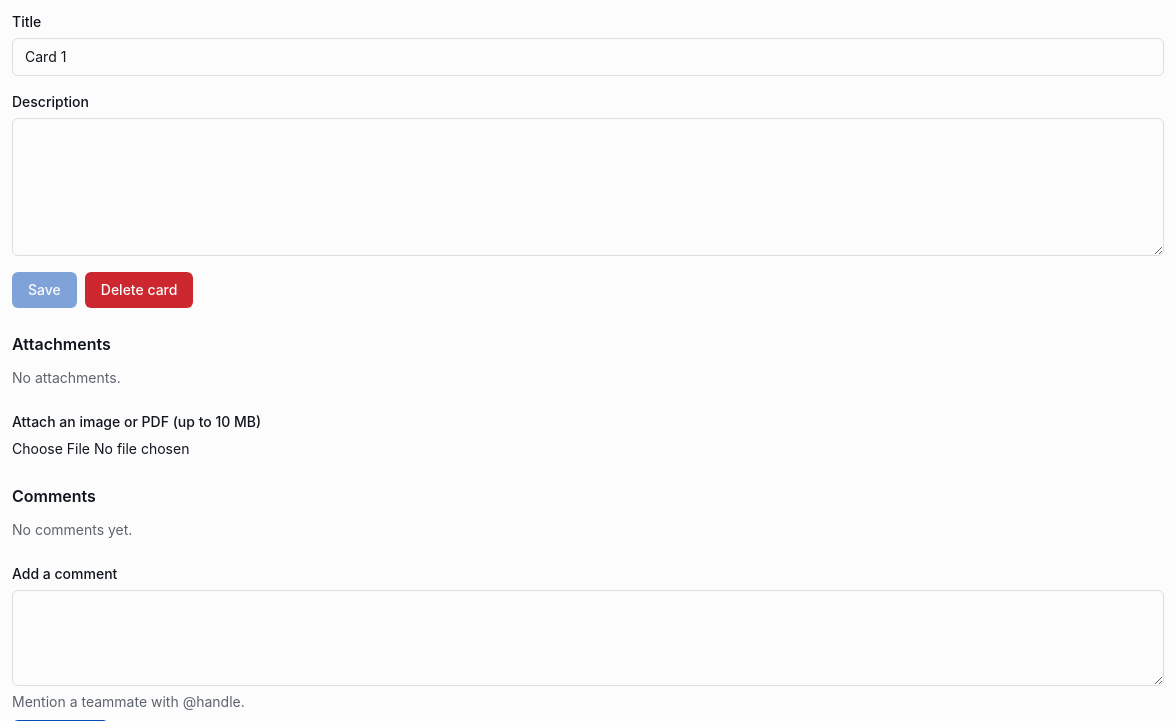
Test: editing a card that someone else changed › lets me take their version instead, replacing the form with it
Replace the text in the field labelled "Title" with "Mine" at (588, 57), box x1=12 y1=38 x2=1164 y2=76
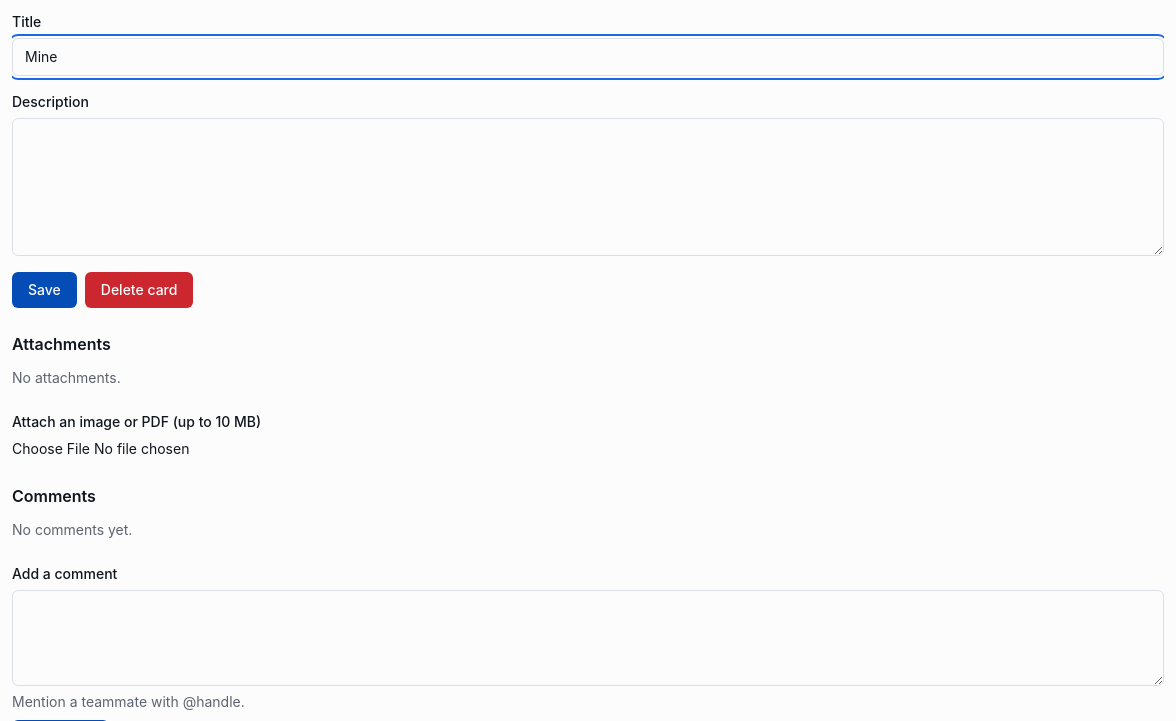
Click the button "Save" at (44, 290), box x1=12 y1=272 x2=77 y2=308
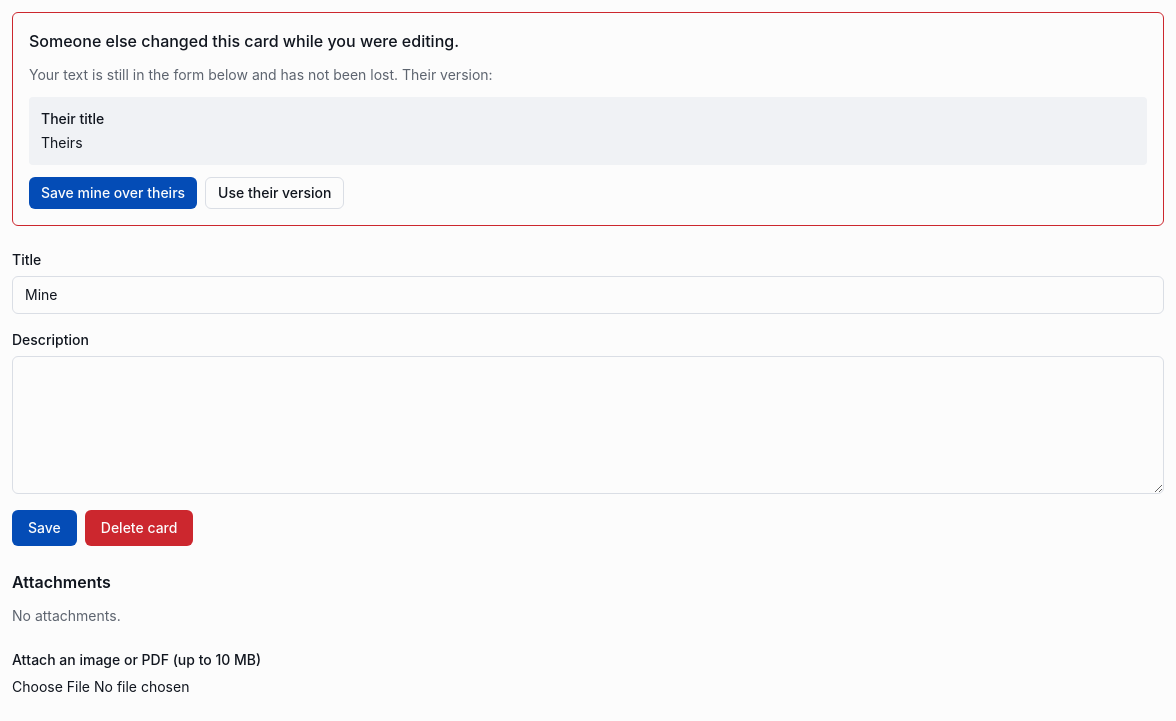
Click the button "Use their version" at (275, 193), box x1=205 y1=177 x2=344 y2=209
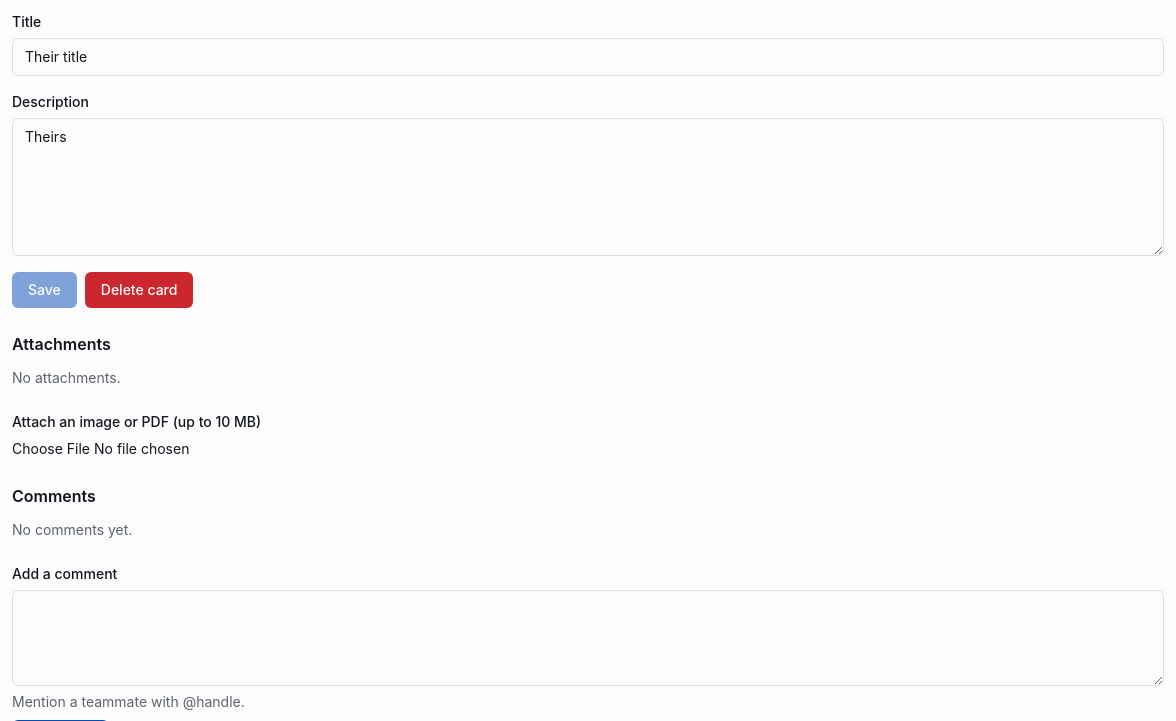
Check: the field labelled "Title" holds "Their title", box x1=12 y1=38 x2=1164 y2=76
Check: the text box labelled "Description" holds "Theirs", box x1=12 y1=118 x2=1164 y2=256
Check: the text "Someone else changed this card" is gone
